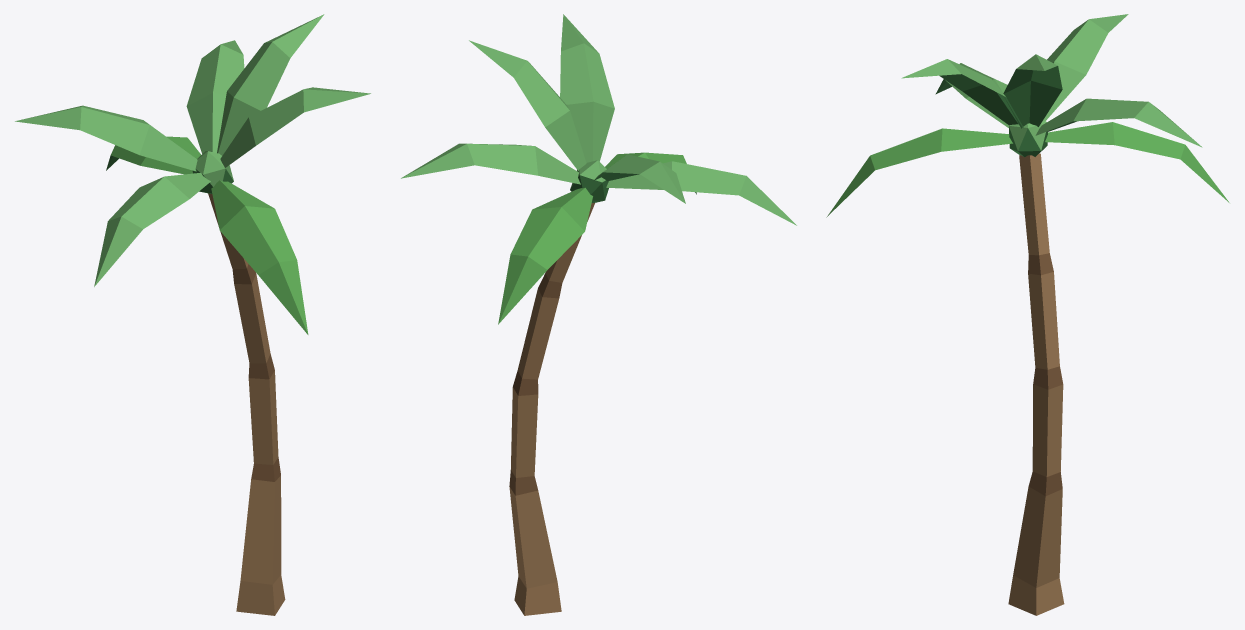
File: palm_b_lod1.glb
The picture shows the model from 3 angles, left to right: view 1: azimuth 30°, elevation 25°; view 2: azimuth 150°, elevation 25°; view 3: azimuth 270°, elevation 25°; orthographic projection. The views are drawn at different scales.
Visible parts, largest first — view 1: palm_b_lod1; view 2: palm_b_lod1; view 3: palm_b_lod1.
Part boxes in pixels (left/top/right/bottom): palm_b_lod1: left=15, top=14, right=370, bottom=615; palm_b_lod1: left=401, top=14, right=796, bottom=615; palm_b_lod1: left=826, top=14, right=1229, bottom=615.
Size of the model in its own units: 4.29 by 8.2 by 5.31.
